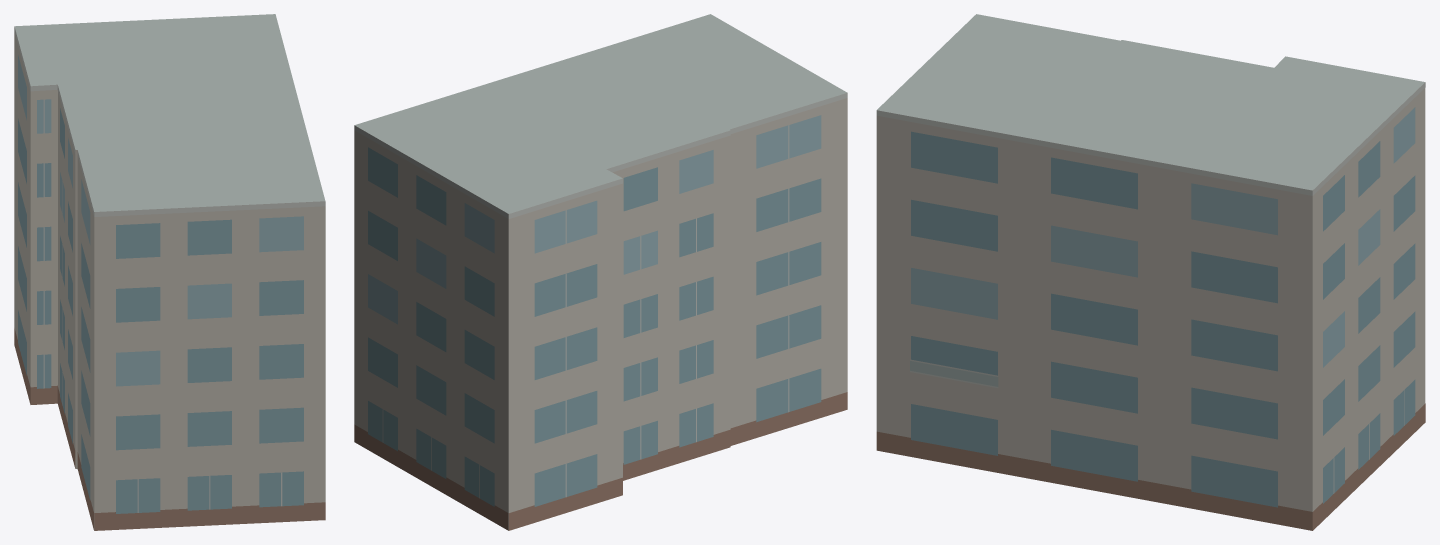
Rendered from survey-upis-32521855.glb.
3 views of the same model, side by side, from view 1: azimuth 30°, elevation 25°; view 2: azimuth 150°, elevation 25°; view 3: azimuth 270°, elevation 25° (orthographic). The views are drawn at different scales.
Visible parts, largest first — view 1: survey-upis-32521855.tmp; view 2: survey-upis-32521855.tmp; view 3: survey-upis-32521855.tmp.
Boxes of the visible parts, x1=… form: survey-upis-32521855.tmp: x1=14, y1=14, x2=325, y2=530; survey-upis-32521855.tmp: x1=354, y1=14, x2=847, y2=530; survey-upis-32521855.tmp: x1=876, y1=14, x2=1425, y2=530.
Size of the model in its own units: 16.97 by 15.25 by 22.3.
